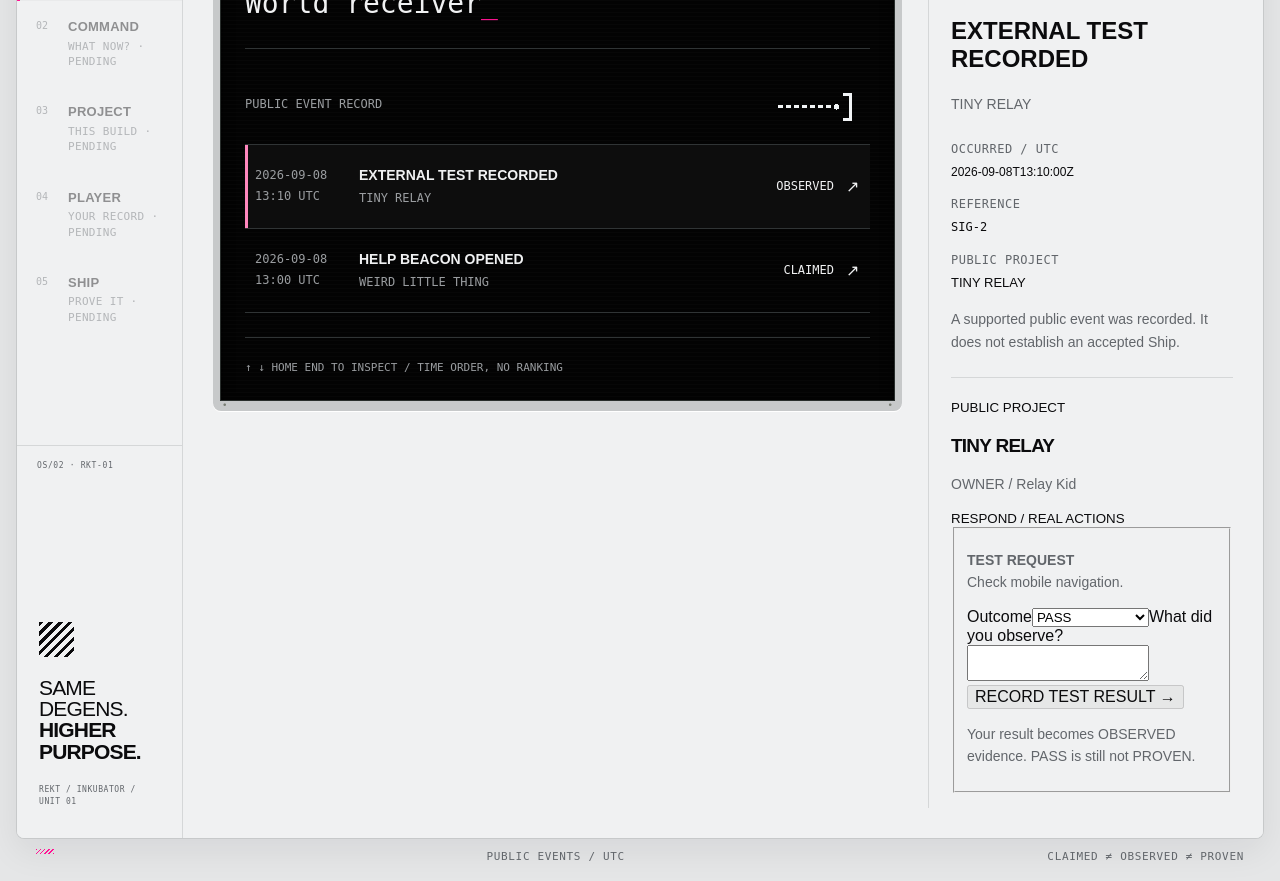
Test: Live World › lets an authenticated non-owner record an open external test result and shows OBSERVED follow-up
(page scrolled)
Expected: the text "Check mobile navigation." is shown, [967, 574, 1123, 590]
In the text box named "External test summary": (1058, 662) [967, 644, 1149, 680], type "Works on mobile."
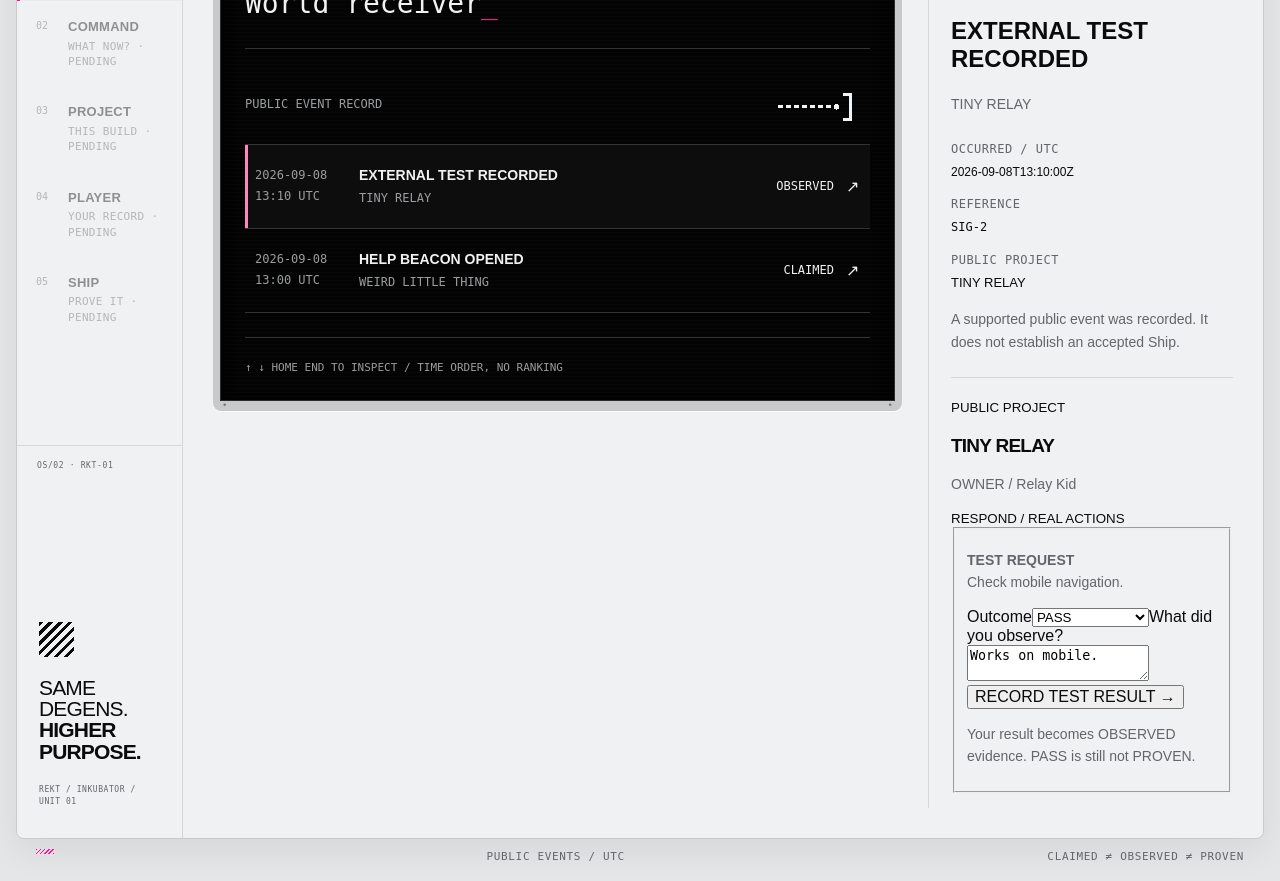
Click the button "RECORD TEST RESULT →": click(1075, 696) [967, 684, 1184, 708]
(page scrolled)
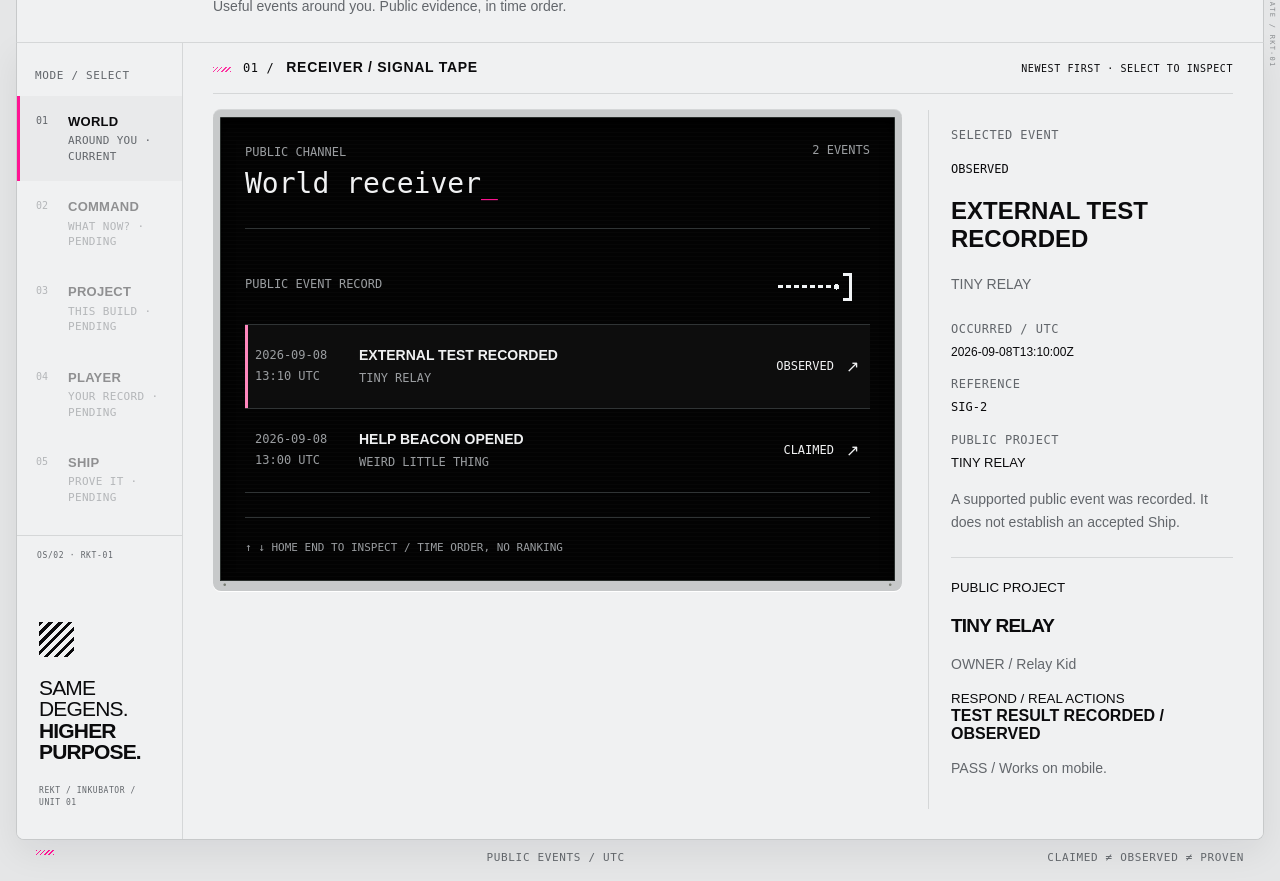
Expected: the message shows "TEST RESULT RECORDED / OBSERVED", [951, 707, 1164, 742]
